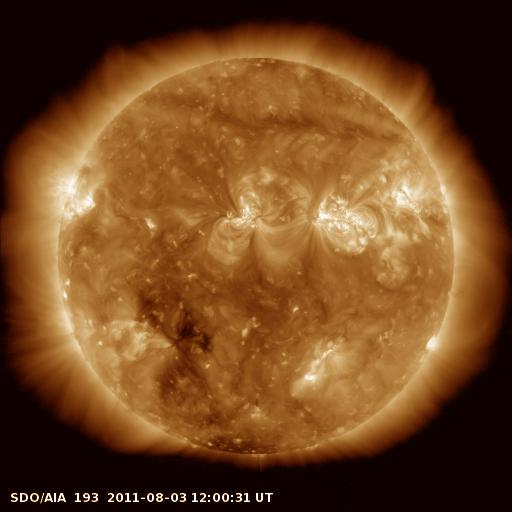coronal_hole: (170, 309, 209, 350)
